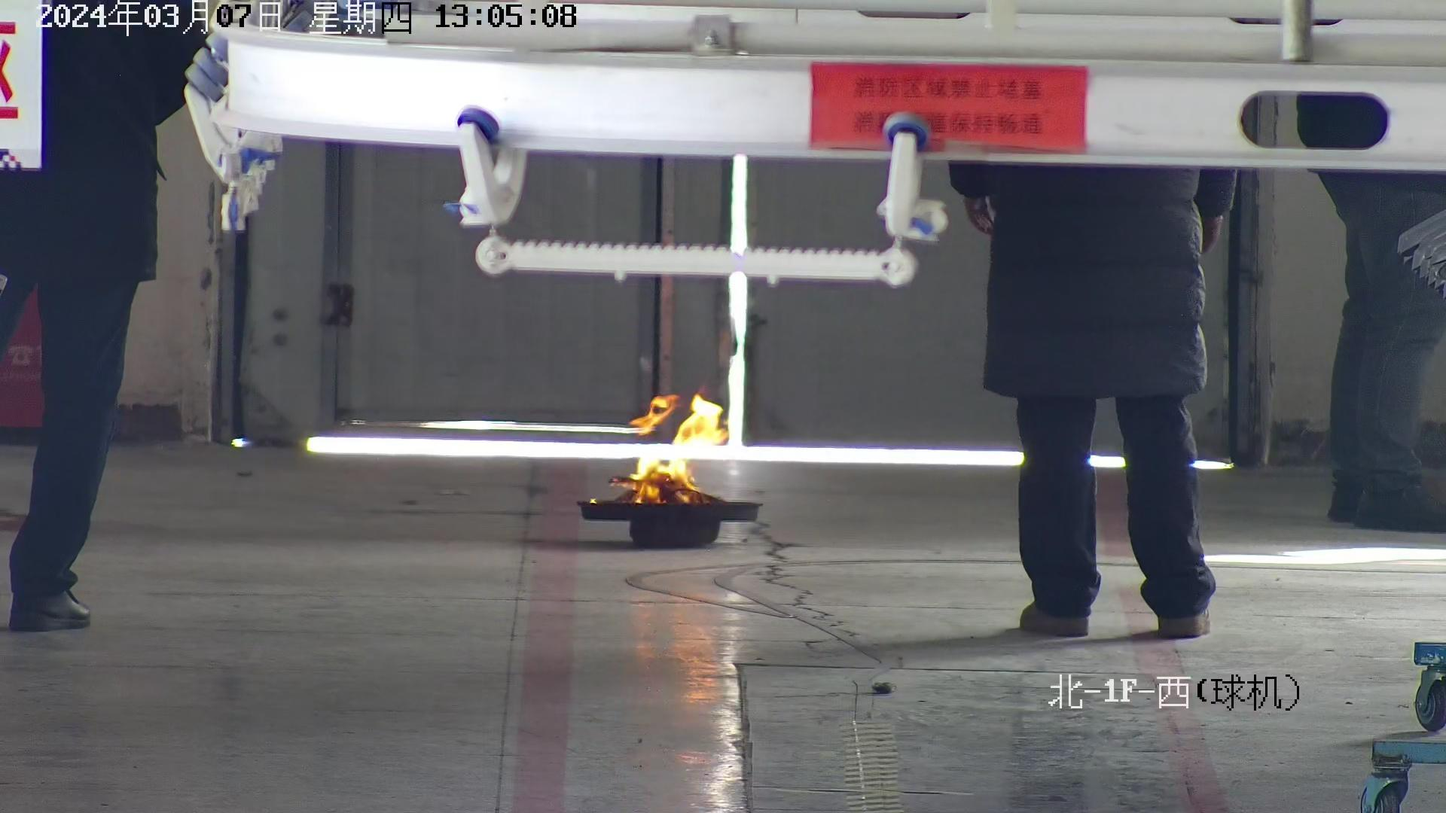fire: (612, 457, 711, 504), (672, 392, 728, 446), (628, 394, 679, 434)
